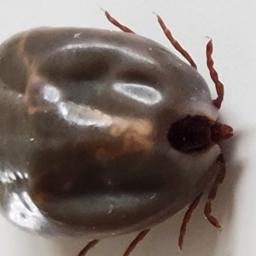Rhipicephalus sanguineus: (1, 9, 233, 256)
